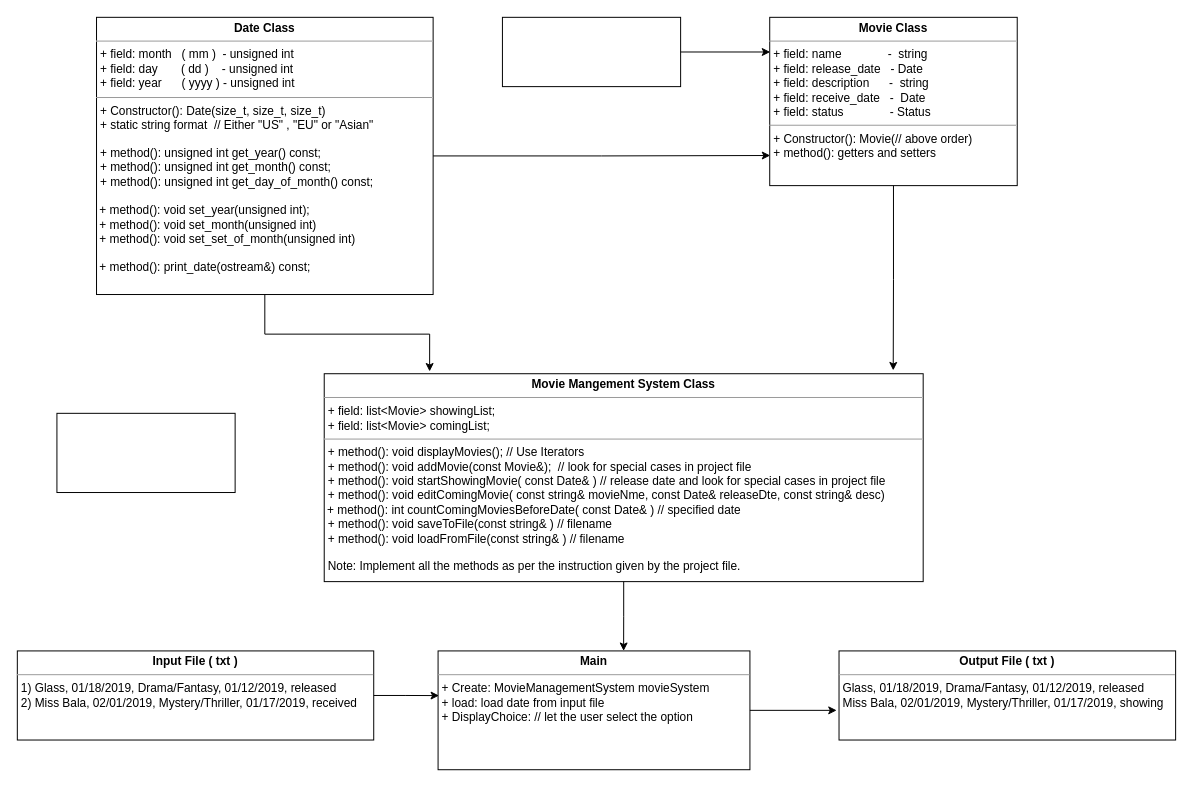
Some shapes in this 1193 by 787 pixel diagram are drawn without their labels. Here are the shapes that lost their labels. From the top down, the centre of each, then its label:
At [591,51]: "Enum Status + field: Received + field: Released".
At [145,452]: "Side Note + We are using C++ STL for linked list and iterator".
